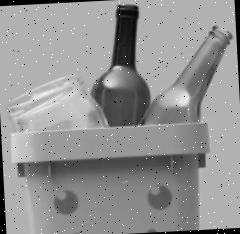glass: (2, 0, 237, 132)
